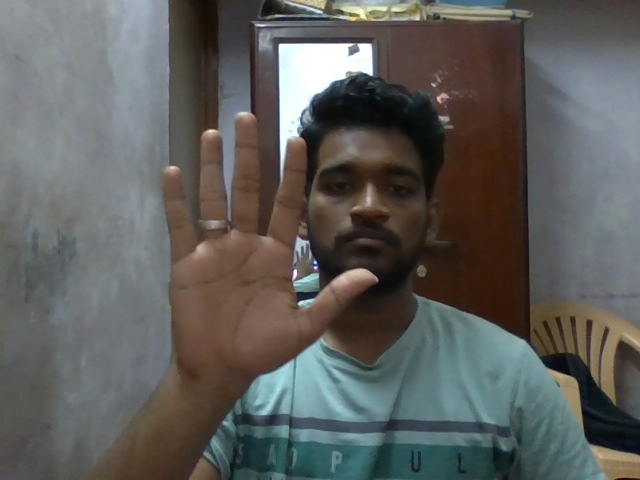Hello: (150, 107, 380, 387)
